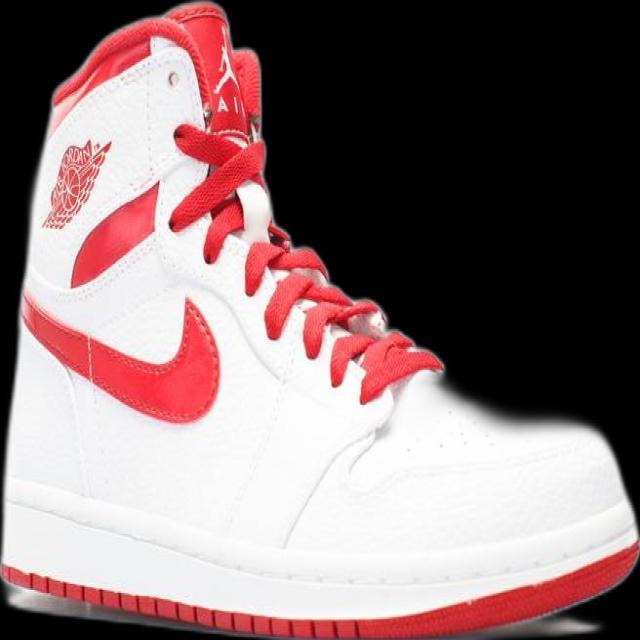J1_InsoleChar: (0, 0, 639, 639)
J1_ShoeLogo: (18, 0, 445, 425), (41, 136, 112, 230)
J1_StitchPattern: (166, 119, 445, 405), (241, 237, 445, 404), (0, 563, 376, 639), (167, 30, 267, 264)
